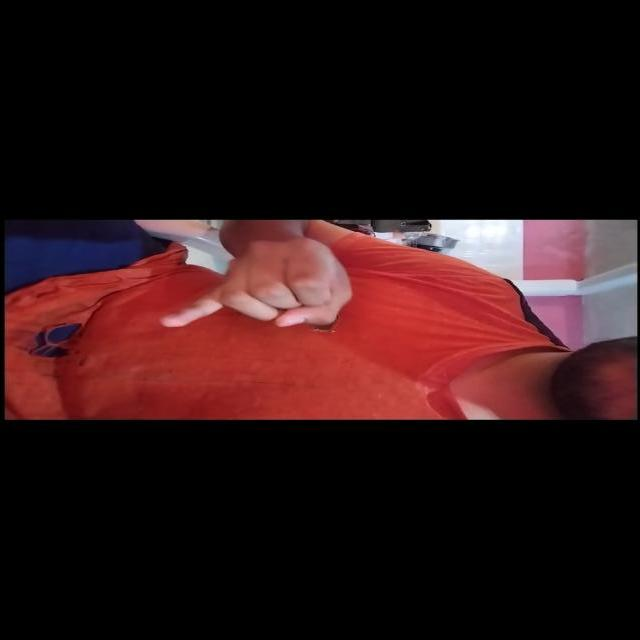J: (144, 228, 378, 340)
